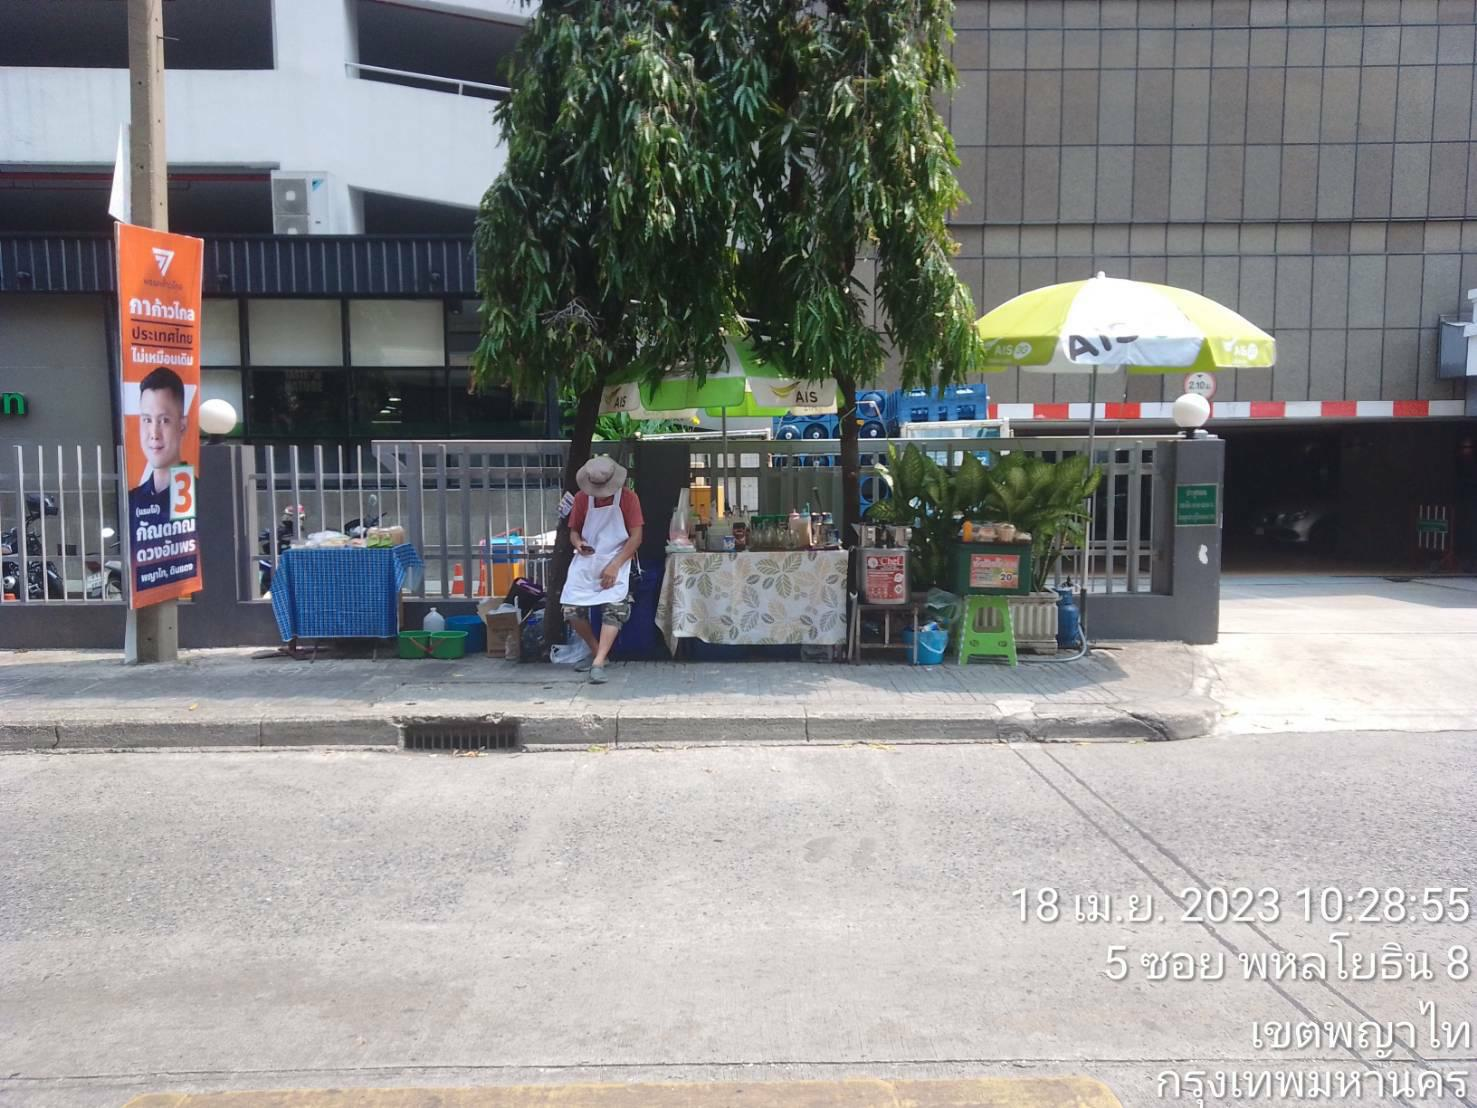Banner: (111, 223, 211, 616)
